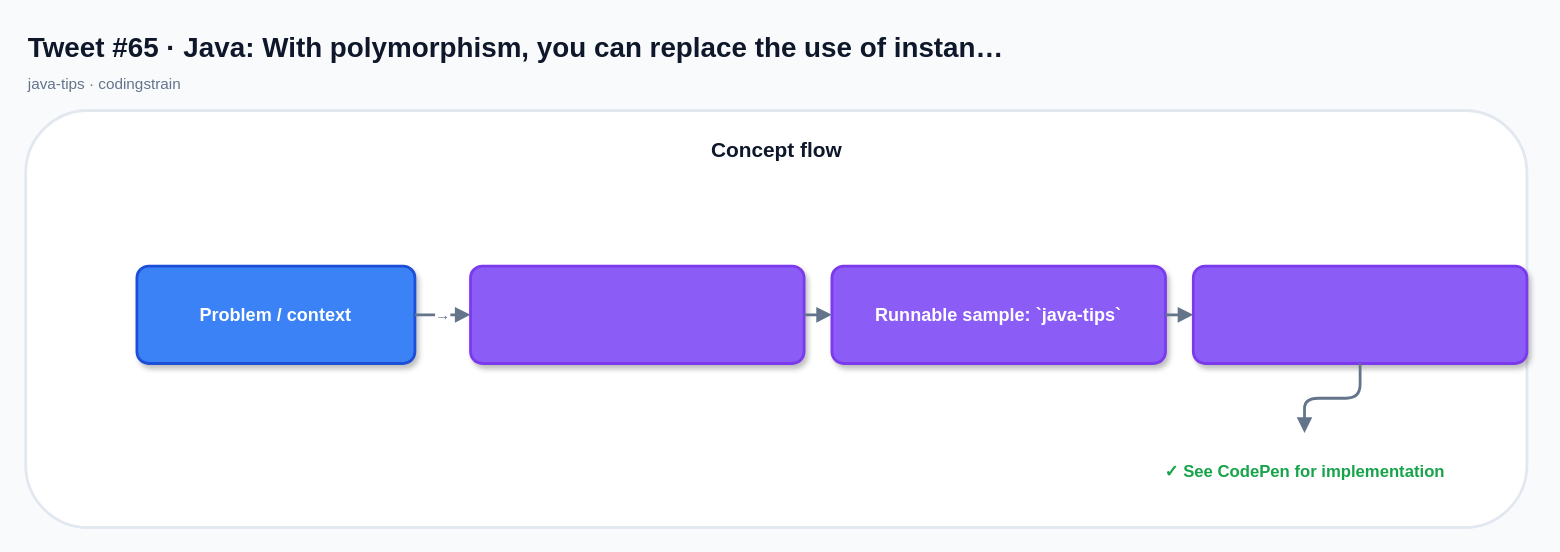
Some shapes in this 1560 by 552 pixel diagram are drawn without their labels. Each missing label, with the centre of its shape:
"Architecture diagram + Carbon CodePen below" belongs at [1361,316].
"💡Java: With polymorphism, you can replace the use of instanceof in you" belongs at [638,316].
